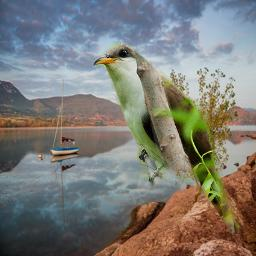Cuckoo: (88, 43, 248, 235)
